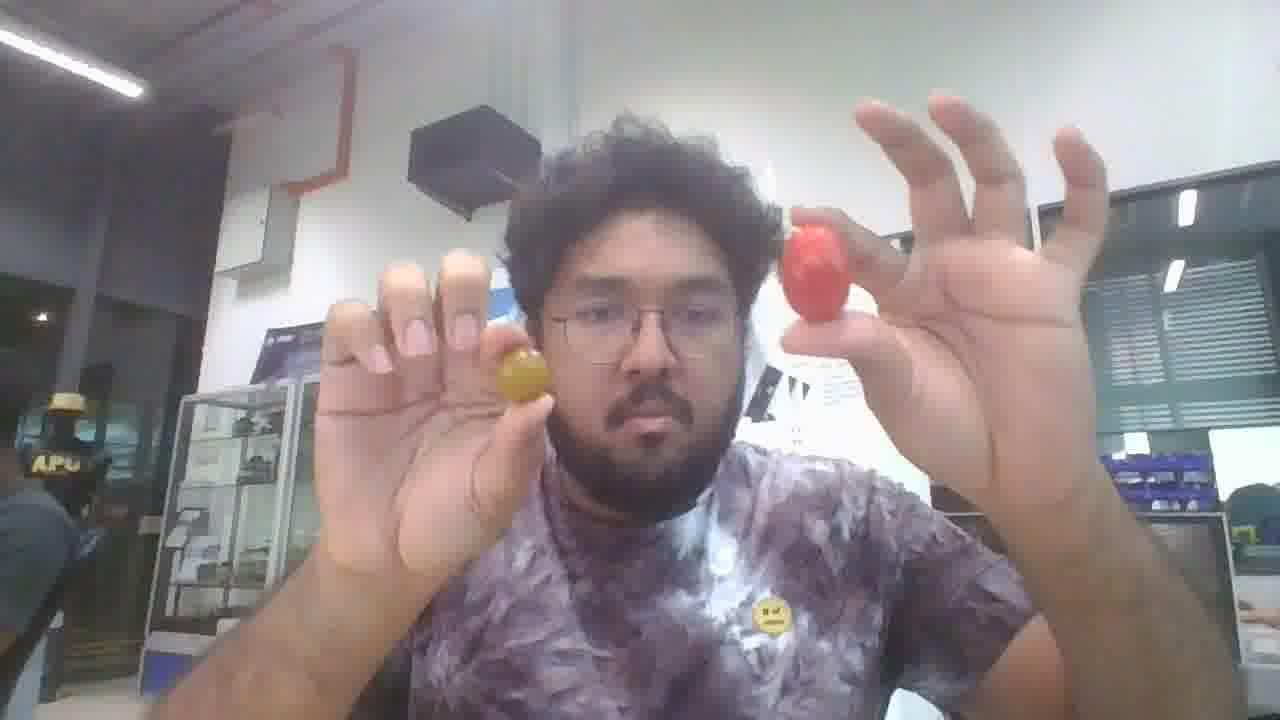red_cherry_tomato: (779, 224, 850, 323), (497, 347, 549, 402)
